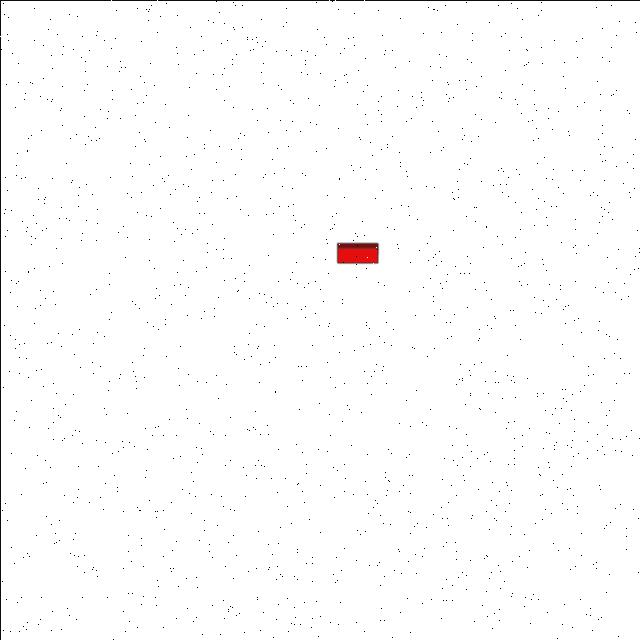3069b: (332, 237, 382, 267)
